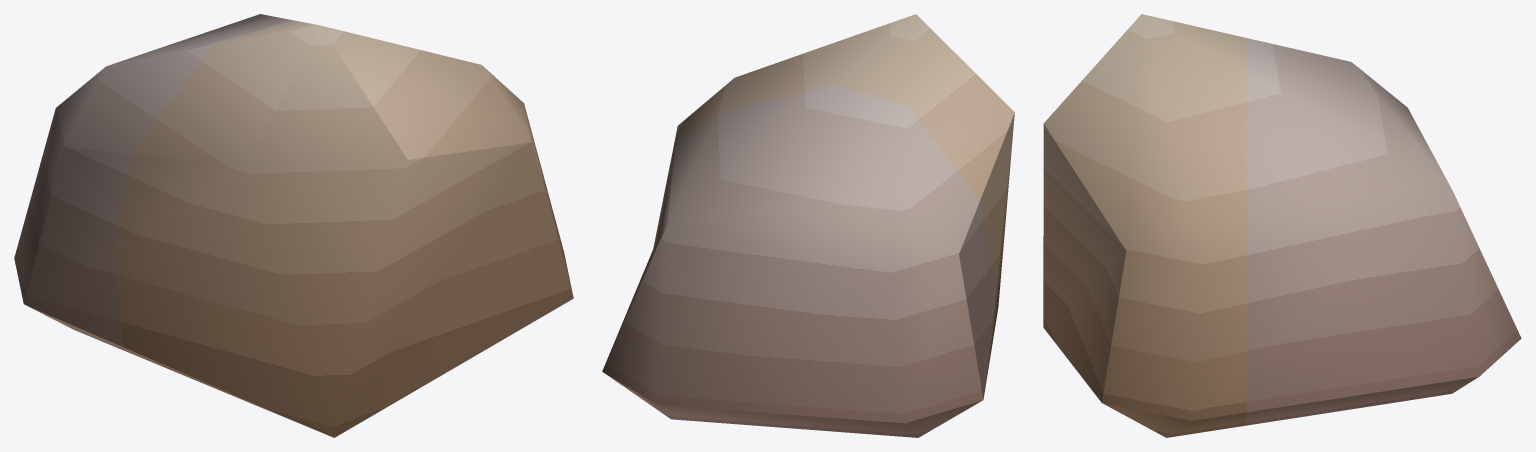
Rendered from simple_low_poly_rock1.glb.
3 views of the same model, side by side, from view 1: azimuth 30°, elevation 25°; view 2: azimuth 150°, elevation 25°; view 3: azimuth 270°, elevation 25° (orthographic). The views are drawn at different scales.
Parts seen in each view (by area): view 1: rock1_Material #26_0; view 2: rock1_Material #26_0; view 3: rock1_Material #26_0.
Boxes of the visible parts, x1,y1,x2,y2 form: rock1_Material #26_0: (14,14,573,437); rock1_Material #26_0: (602,14,1014,437); rock1_Material #26_0: (1043,14,1521,437).
Bounding box in the file's own units: 0.6958 × 0.5274 × 0.6898.
1 material, 1 textured.
